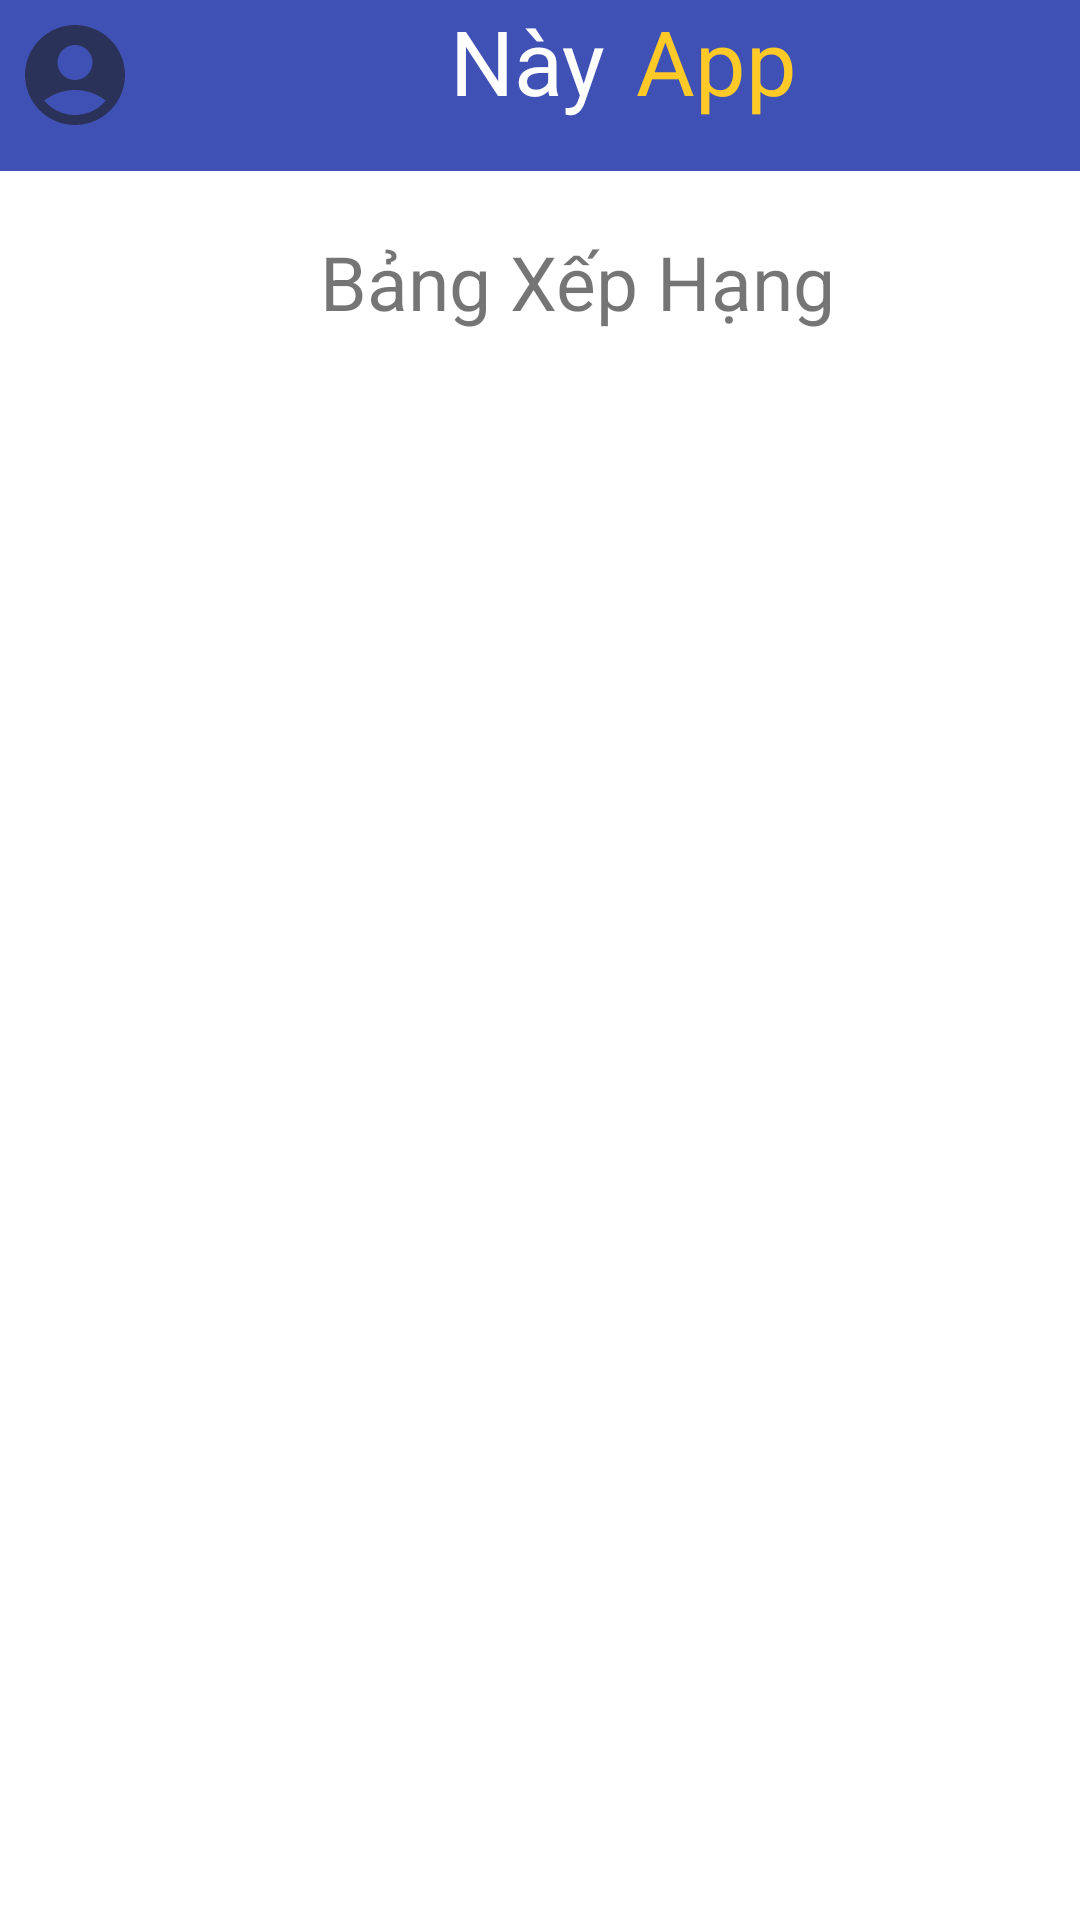

Icons on this 1080×1920 Android screen, each with its box as (x1, y1, x2, y2):
account: (25, 25, 125, 125)
